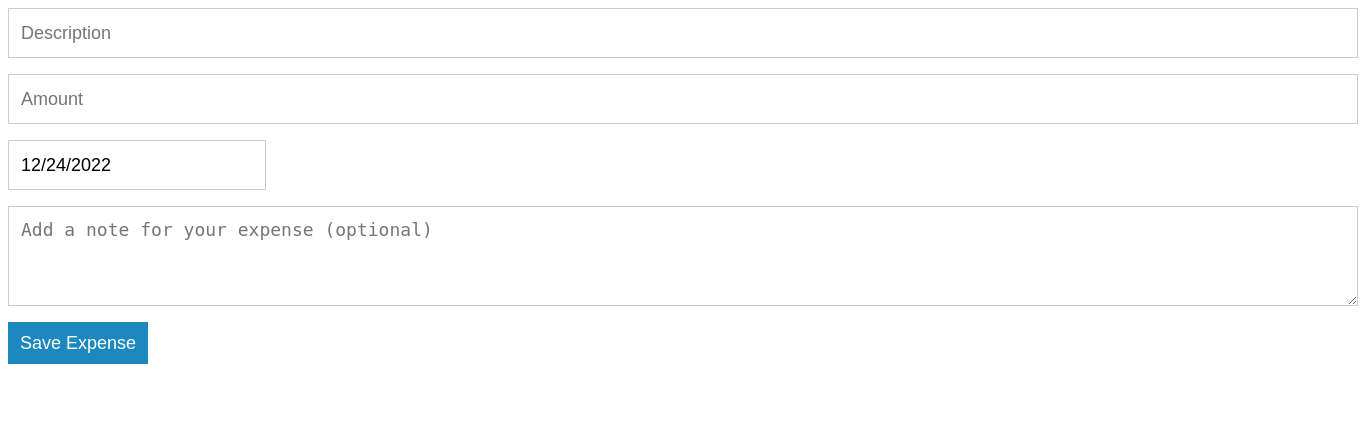
Scenario: ExpenseFrom › should render error for invalid form submission
Click the button "Save Expense" at [78, 343], box [8,322,148,364]
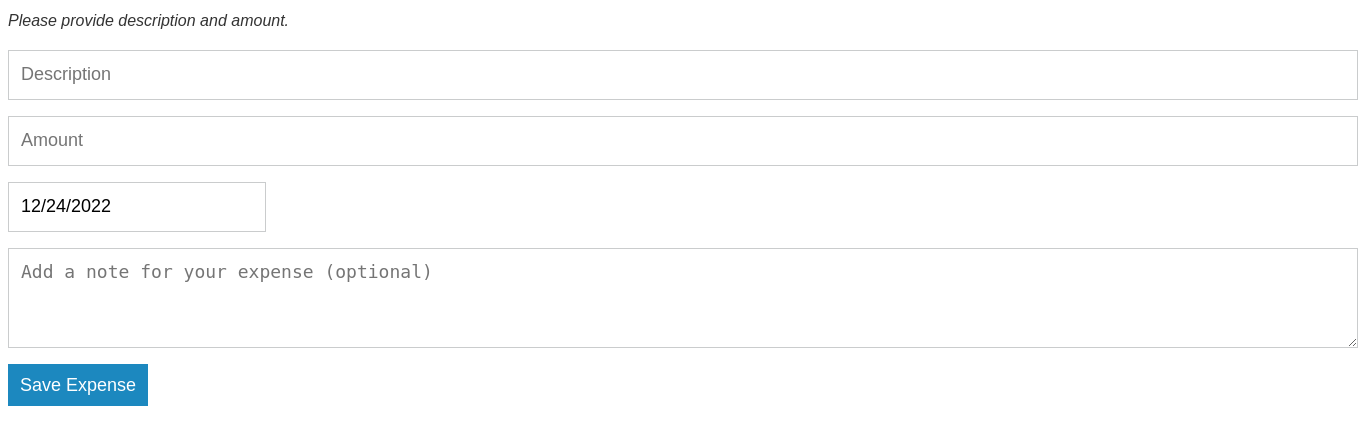
Now the text "Please provide" is shown, box [8,12,289,29]
